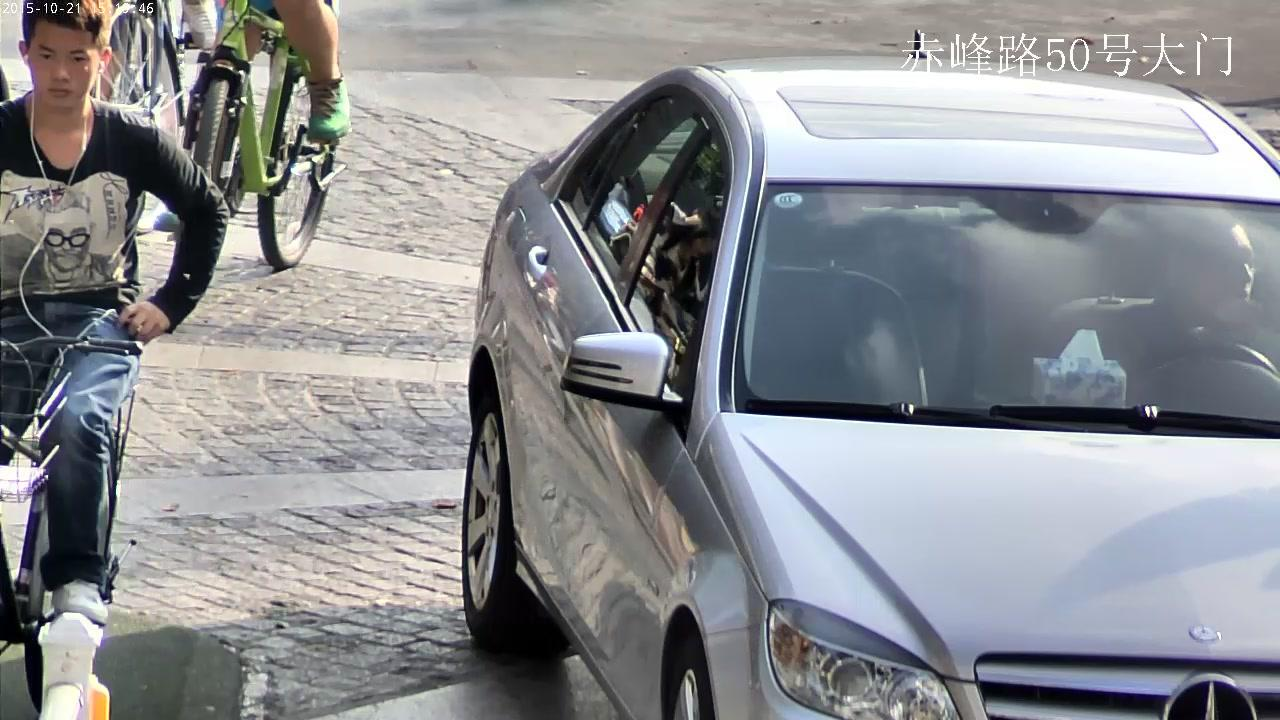face: (28, 23, 101, 106), (1190, 228, 1255, 318)
